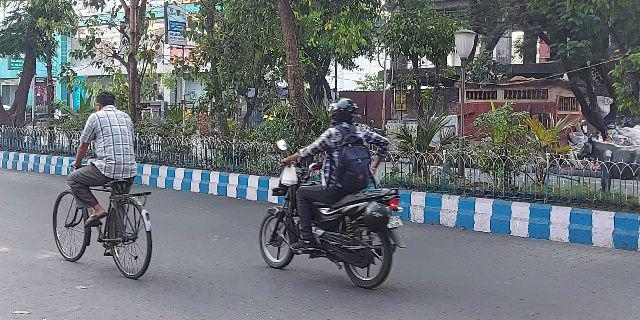Cycle: (42, 88, 162, 281)
Motorbike: (258, 95, 409, 294)
